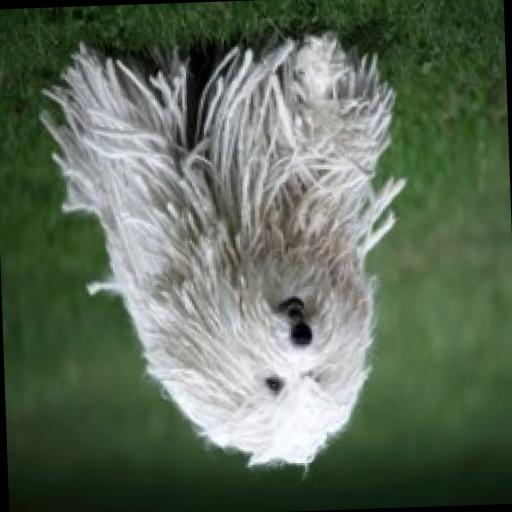dog: (34, 29, 429, 488)
